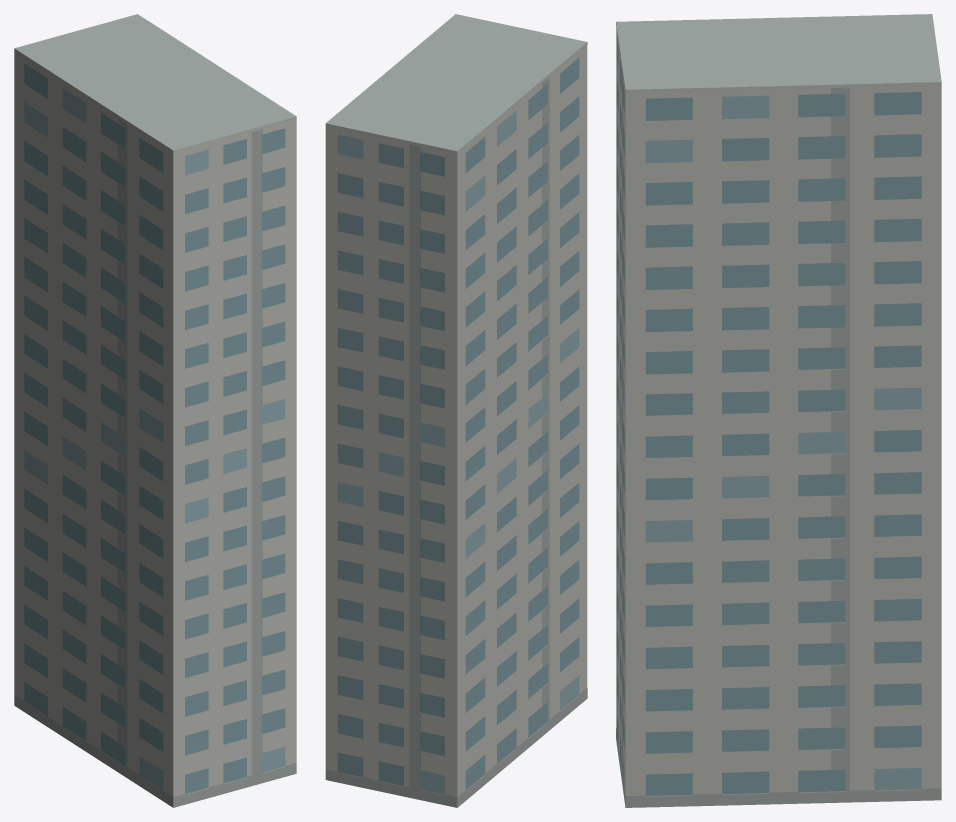
Rendered from residential-6d6358f0-5f98-43c3-922b-5dee54673c10.glb.
The picture shows the model from 3 angles, left to right: view 1: azimuth 30°, elevation 25°; view 2: azimuth 150°, elevation 25°; view 3: azimuth 270°, elevation 25°; orthographic projection. The views are drawn at different scales.
Visible parts, largest first — view 1: residential-6d6358f0-5f98-43c3-922b-5dee54673c10.tmp; view 2: residential-6d6358f0-5f98-43c3-922b-5dee54673c10.tmp; view 3: residential-6d6358f0-5f98-43c3-922b-5dee54673c10.tmp.
Part boxes in pixels (x1,y1,x2,y2): residential-6d6358f0-5f98-43c3-922b-5dee54673c10.tmp: (14,14,296,807); residential-6d6358f0-5f98-43c3-922b-5dee54673c10.tmp: (325,14,587,807); residential-6d6358f0-5f98-43c3-922b-5dee54673c10.tmp: (616,14,941,807).
Size of the model in its own units: 11.32 by 50 by 20.55.
